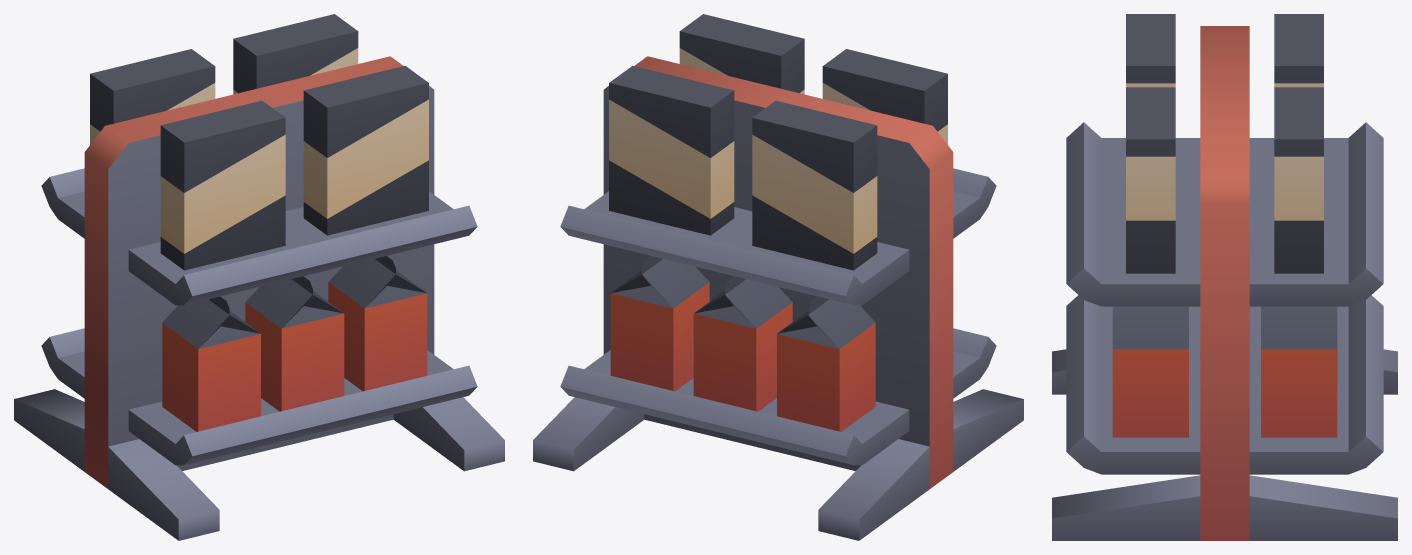
File: shelf-boxes.obj
3 views of the same model, side by side, from view 1: azimuth 30°, elevation 25°; view 2: azimuth 150°, elevation 25°; view 3: azimuth 270°, elevation 25° (orthographic). The views are drawn at different scales.
Parts seen in each view (by area): view 1: shelf-boxes, box, carton; view 2: shelf-boxes, box, carton; view 3: shelf-boxes, box, carton.
Boxes of the visible parts, <box> form: shelf-boxes: <box>14,56,504,540</box>; box: <box>90,14,428,270</box>; carton: <box>162,256,427,431</box>; shelf-boxes: <box>533,56,1023,540</box>; box: <box>609,14,947,270</box>; carton: <box>610,256,875,431</box>; shelf-boxes: <box>1052,26,1397,540</box>; box: <box>1126,14,1323,273</box>; carton: <box>1112,306,1337,437</box>.
Bounding box in the file's own units: 0.8 × 0.85 × 0.7.
